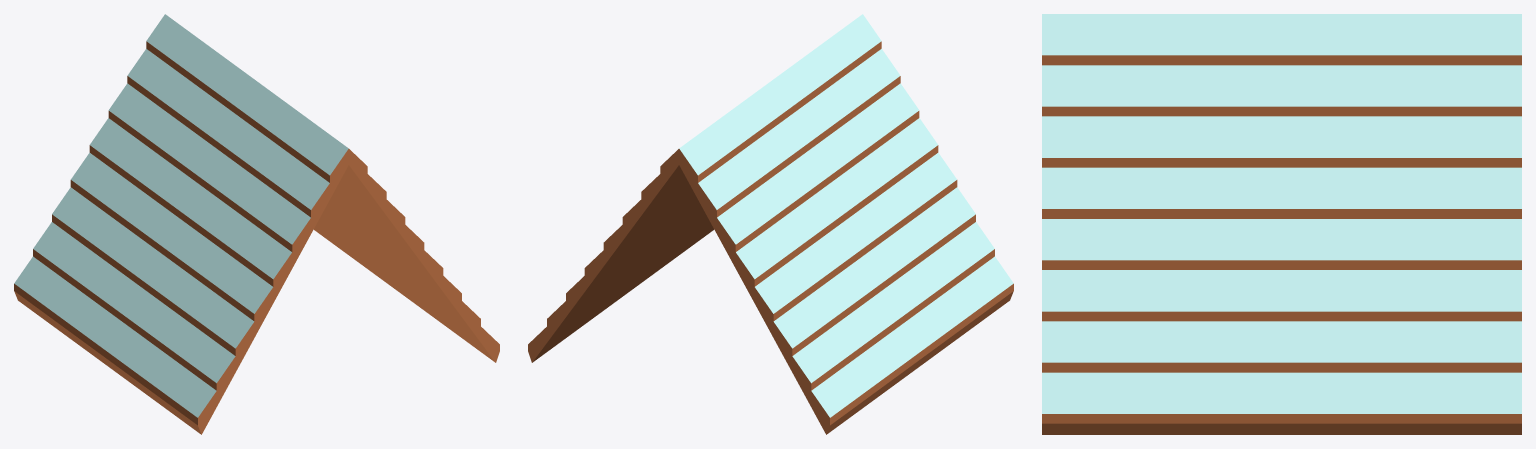
The model's file is cabinRoofCenter.fbx.
3 views of the same model, side by side, from view 1: azimuth 30°, elevation 25°; view 2: azimuth 150°, elevation 25°; view 3: azimuth 270°, elevation 25° (orthographic). The views are drawn at different scales.
Parts seen in each view (by area): view 1: cabinRoofCenter; view 2: cabinRoofCenter; view 3: cabinRoofCenter.
Part boxes in pixels (x1,y1,x2,y2): cabinRoofCenter: (14, 14, 499, 434); cabinRoofCenter: (528, 14, 1013, 434); cabinRoofCenter: (1042, 14, 1521, 434).
Bounding box in the file's own units: 12.05 × 9.56 × 12.7.
